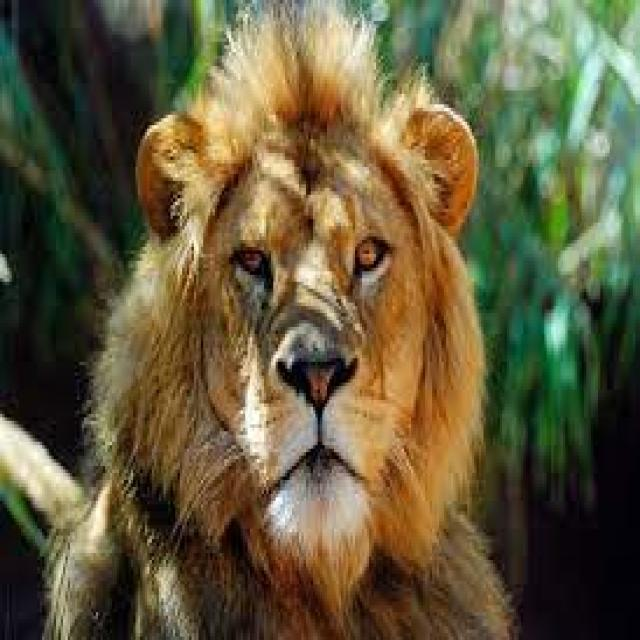Carnivorous: (42, 7, 521, 640)
